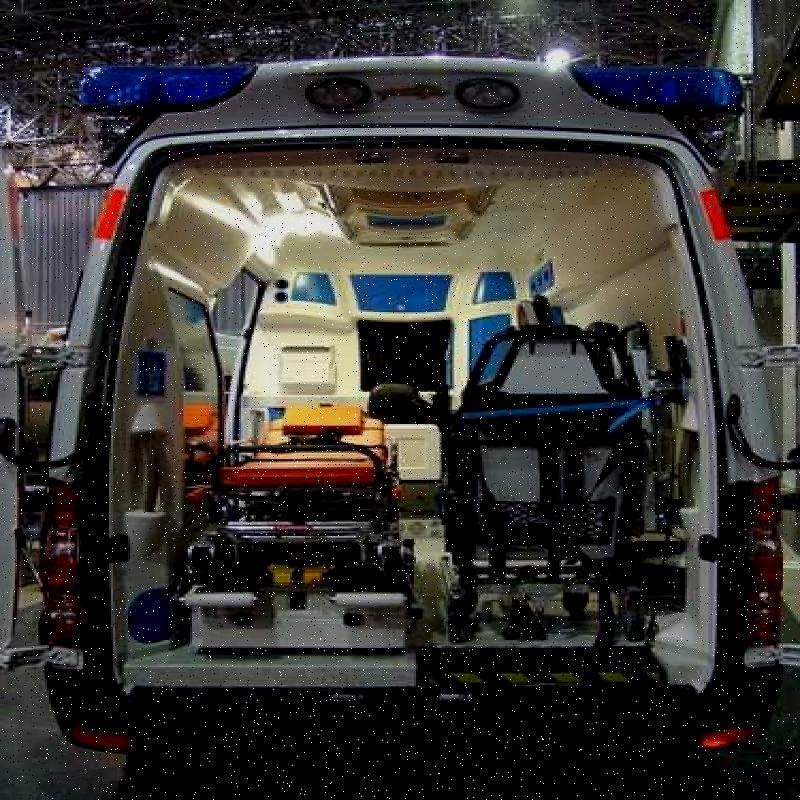AmbulanceSiren: (53, 31, 764, 182)
